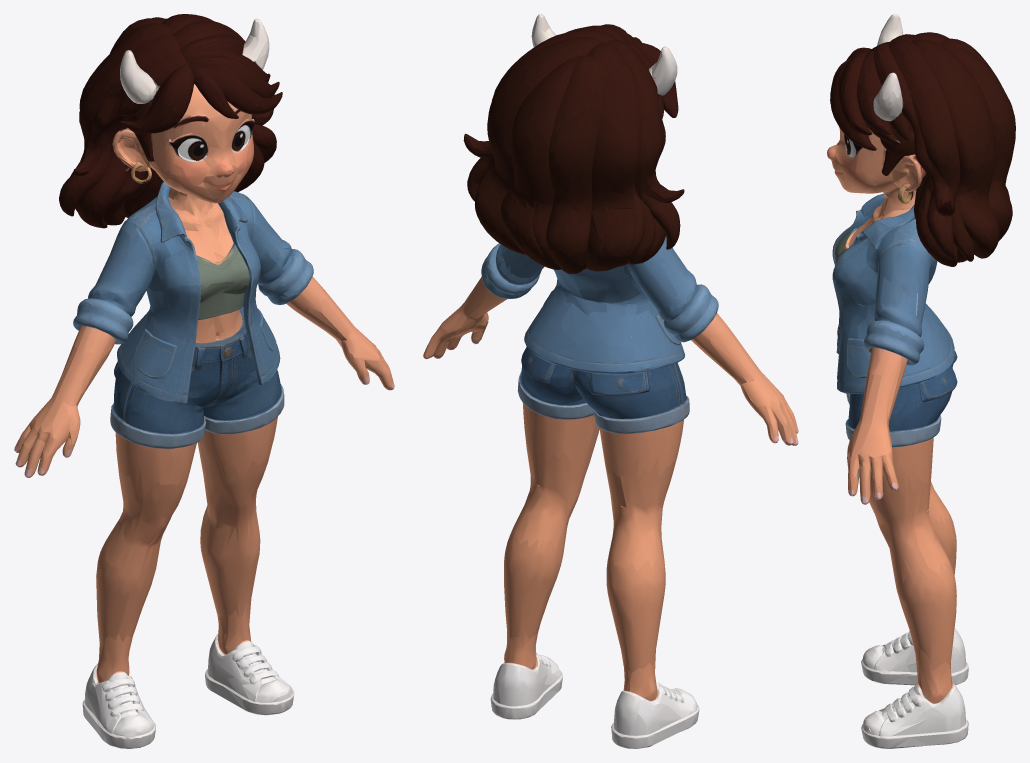
File: bumo.glb
3 views of the same model, side by side, from view 1: azimuth 30°, elevation 25°; view 2: azimuth 150°, elevation 25°; view 3: azimuth 270°, elevation 25° (orthographic). The views are drawn at different scales.
Parts seen in each view (by area): view 1: Mesh_0; view 2: Mesh_0; view 3: Mesh_0.
Boxes of the visible parts, bbox=[...] form: Mesh_0: bbox=[14, 14, 394, 748]; Mesh_0: bbox=[423, 14, 798, 748]; Mesh_0: bbox=[827, 14, 1015, 748].
Size of the model in its own units: 1.08 by 1.9 by 0.49.
Materials: 1 (1 with a texture image).
